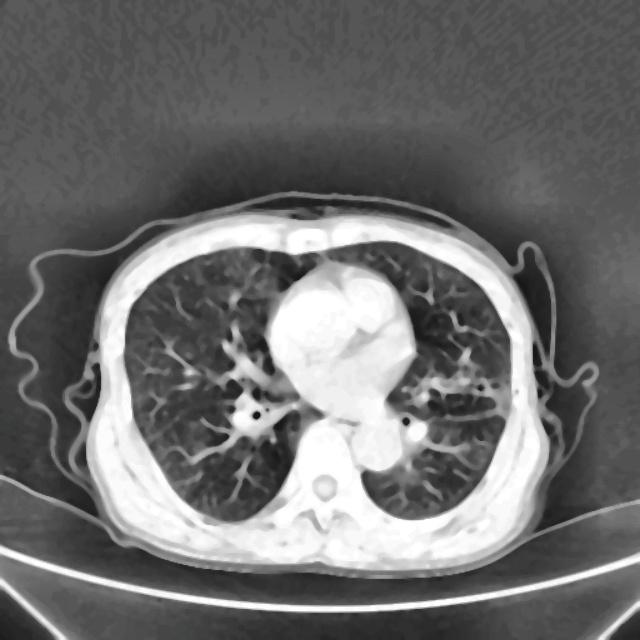covid: (23, 191, 597, 579)
